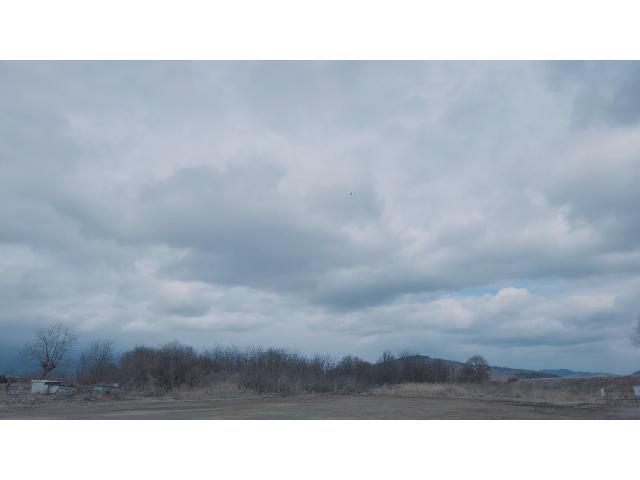Anti-Drone: (345, 188, 361, 200)
